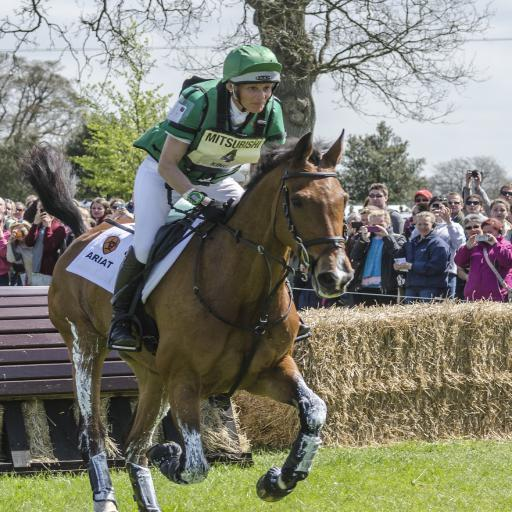horse: (47, 126, 351, 512)
